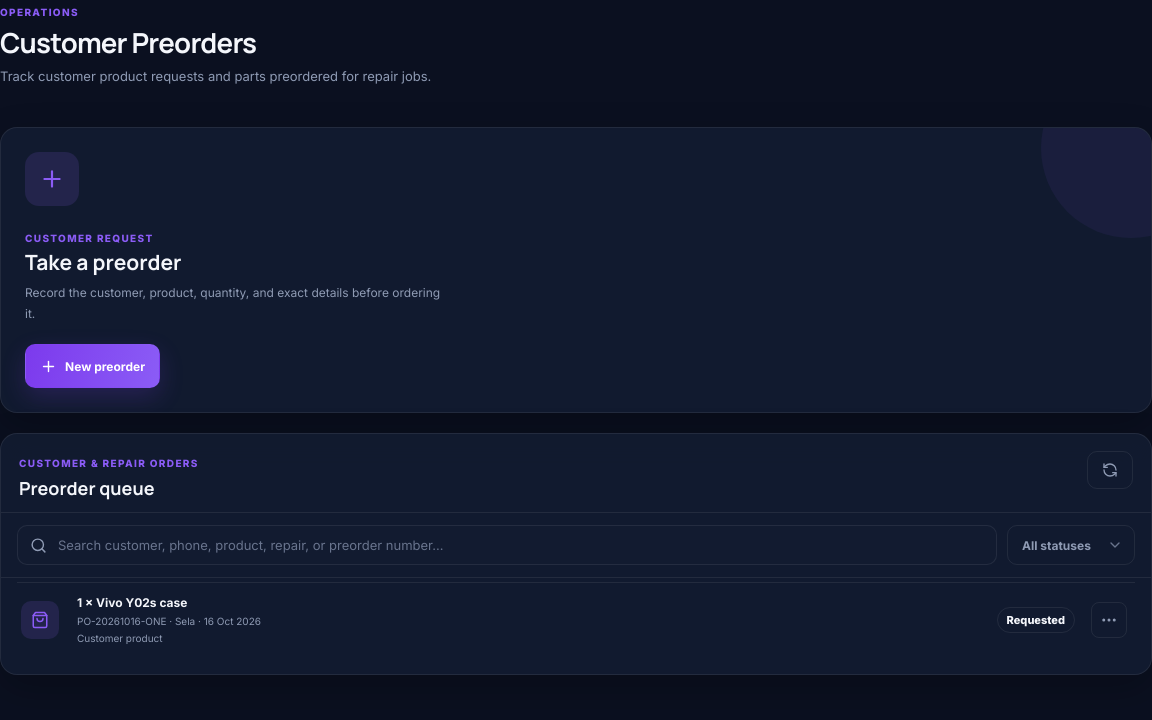
it: CustomerPreorderWorkspace › requires a registered supplier before marking a preorder ordered
The image size is (1152, 720).
Click the button with aria-label "Open preorder PO-20261016-ONE". click: coordinates (40, 620)
box: [17, 582, 1135, 658]
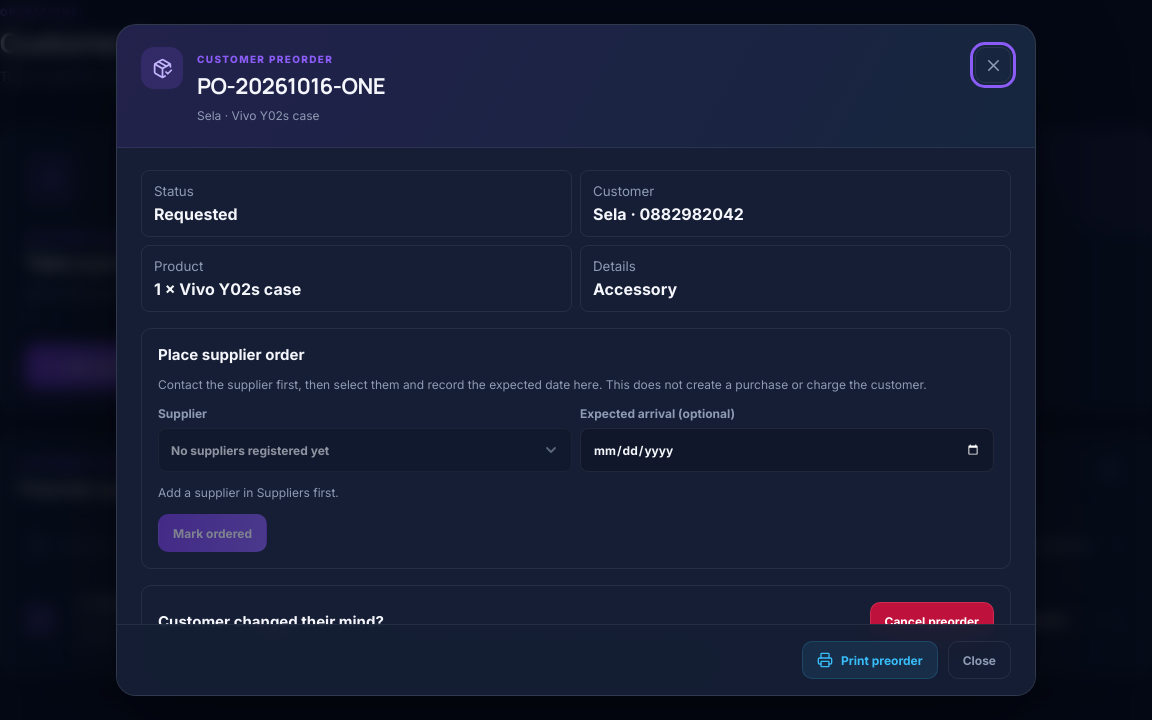
Check: the text "Add a supplier in Suppliers first." is shown, box [158, 485, 339, 500]
Check: the dropdown labelled "Supplier" is disabled, box [158, 428, 572, 472]
Check: the button "Mark ordered" is disabled, box [158, 514, 267, 552]
